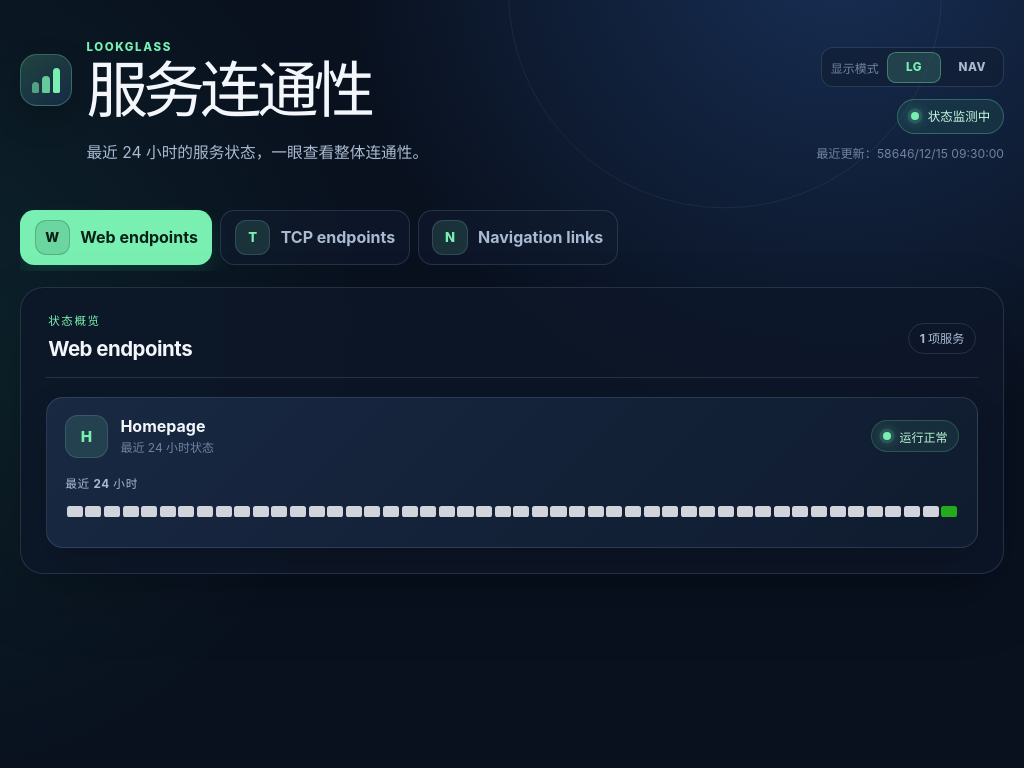
Test case: DashboardPage › uses NAV card styling for an only-NAV panel even while LG is selected
The image size is (1024, 768).
Click the tab "N Navigation links" at (518, 237), box top-left (418, 210), bottom-right (618, 265)
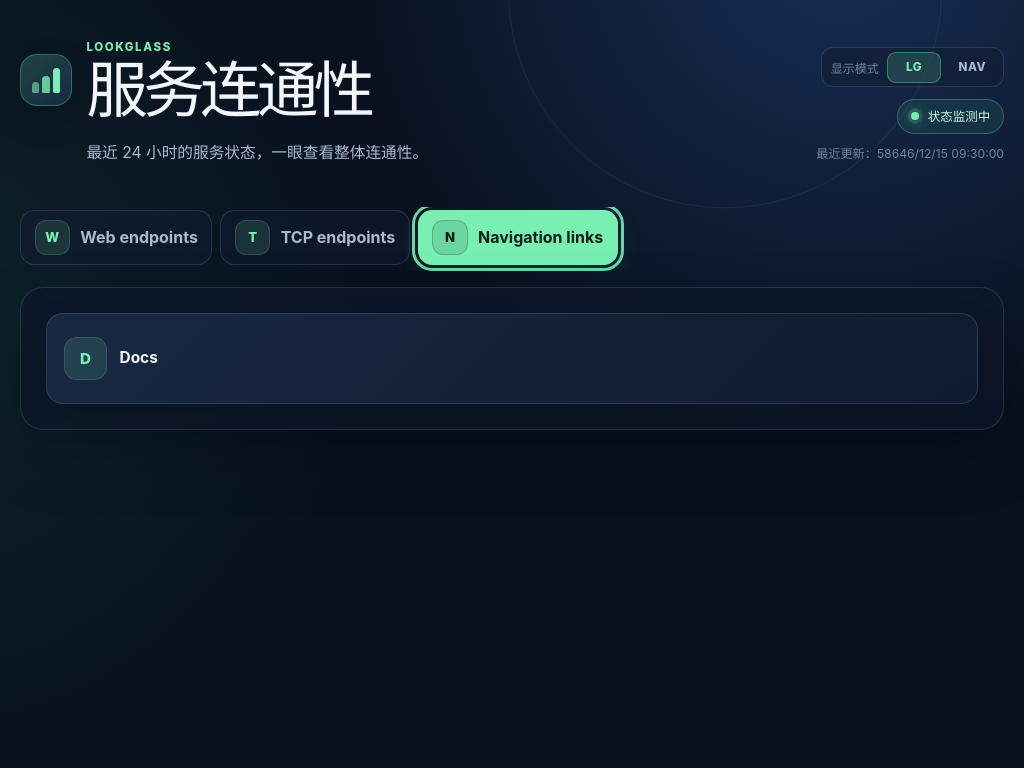
Check: the button with test id "sample-cell" is gone
Check: the text "状态概览" is gone
